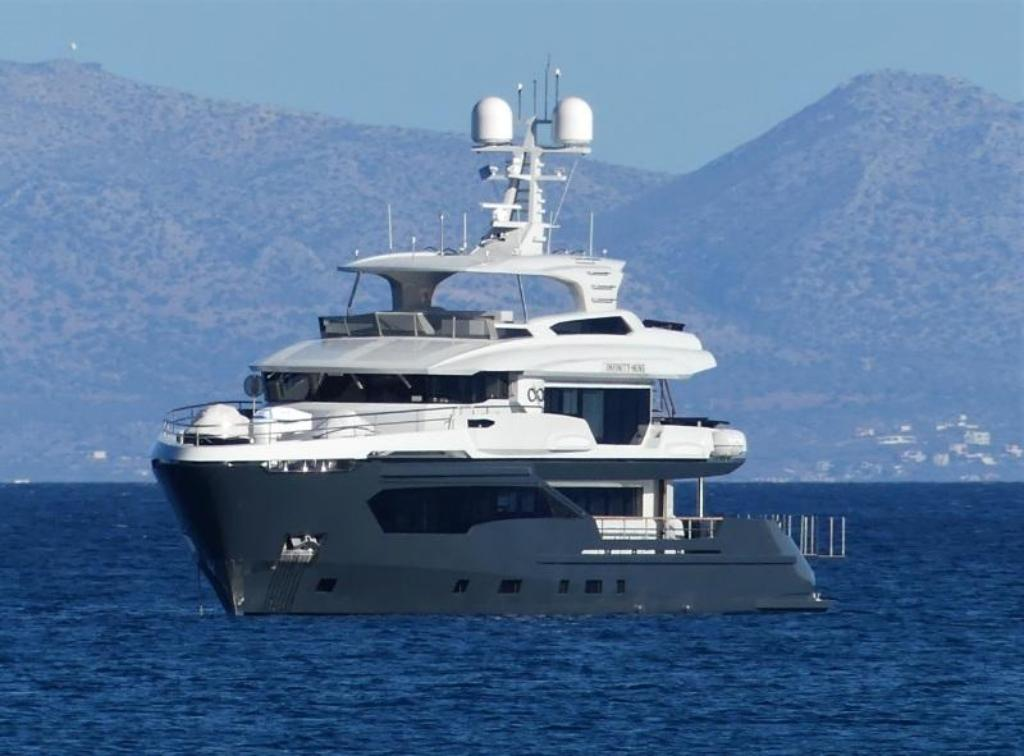PassengerShip: (142, 46, 834, 626)
